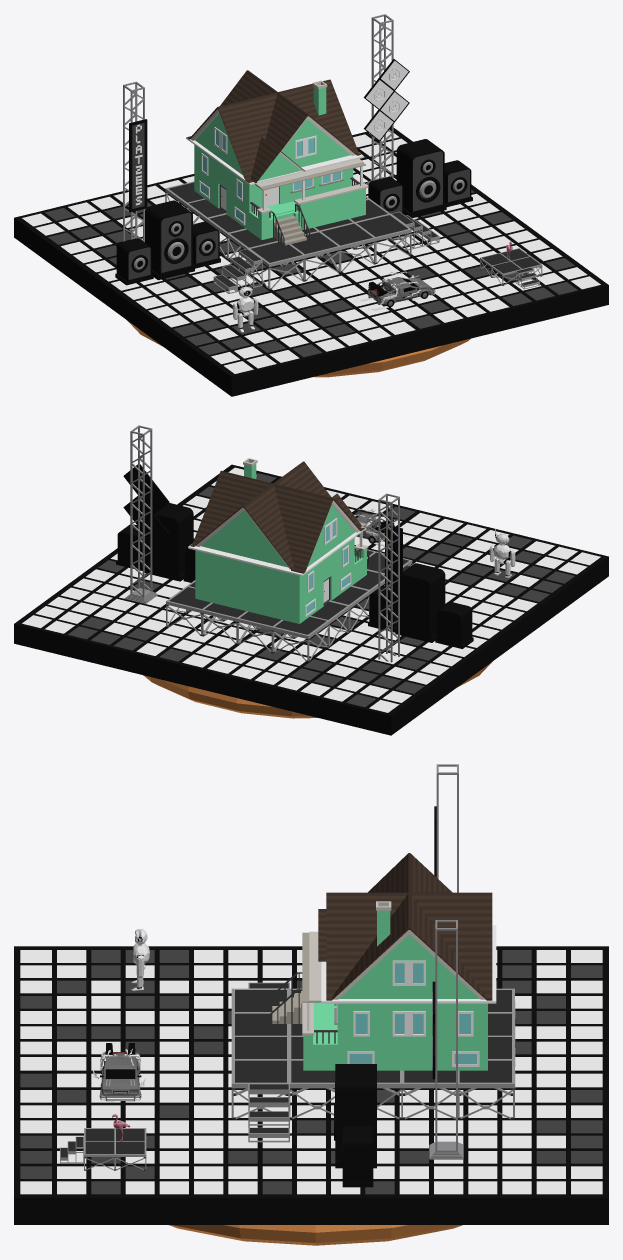
3 renders of one model, top to bottom at view 1: azimuth 30°, elevation 25°; view 2: azimuth 150°, elevation 25°; view 3: azimuth 270°, elevation 25°, orthographic. The views are drawn at different scales.
Visible parts, largest first — view 1: Cube.008, Cube.352, VEHICLES_DELOREAN, UNDERGROUND_PIZZA, OBJRANDOM_PLATZEEBOT; view 2: Cube.008, Cube.352, UNDERGROUND_PIZZA, OBJRANDOM_PLATZEEBOT, VEHICLES_DELOREAN; view 3: Cube.008, Cube.352, UNDERGROUND_PIZZA, VEHICLES_DELOREAN, OBJRANDOM_PLATZEEBOT.
Part boxes in pixels (bbox=[...]): Cube.008: bbox=[14, 14, 608, 396]; Cube.352: bbox=[186, 70, 368, 246]; VEHICLES_DELOREAN: bbox=[355, 271, 435, 310]; UNDERGROUND_PIZZA: bbox=[127, 320, 470, 377]; OBJRANDOM_PLATZEEBOT: bbox=[232, 282, 258, 332]; Cube.008: bbox=[14, 425, 608, 735]; Cube.352: bbox=[188, 458, 369, 623]; UNDERGROUND_PIZZA: bbox=[143, 661, 492, 718]; OBJRANDOM_PLATZEEBOT: bbox=[489, 529, 515, 578]; VEHICLES_DELOREAN: bbox=[354, 508, 404, 546]; Cube.008: bbox=[14, 764, 608, 1224]; Cube.352: bbox=[270, 853, 496, 1070]; UNDERGROUND_PIZZA: bbox=[169, 1225, 462, 1245]; VEHICLES_DELOREAN: bbox=[92, 1043, 145, 1101]; OBJRANDOM_PLATZEEBOT: bbox=[131, 929, 149, 990].
Bounding box in the file's own units: 4000 × 2184 × 4000.
46 materials, 1 textured.
